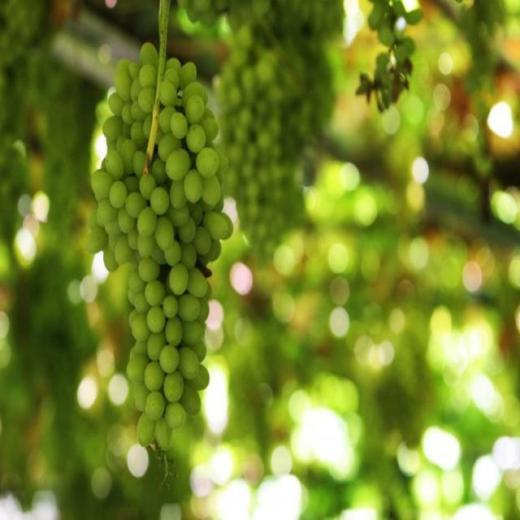Orange: (88, 42, 235, 452), (175, 0, 340, 256), (365, 0, 426, 106)
